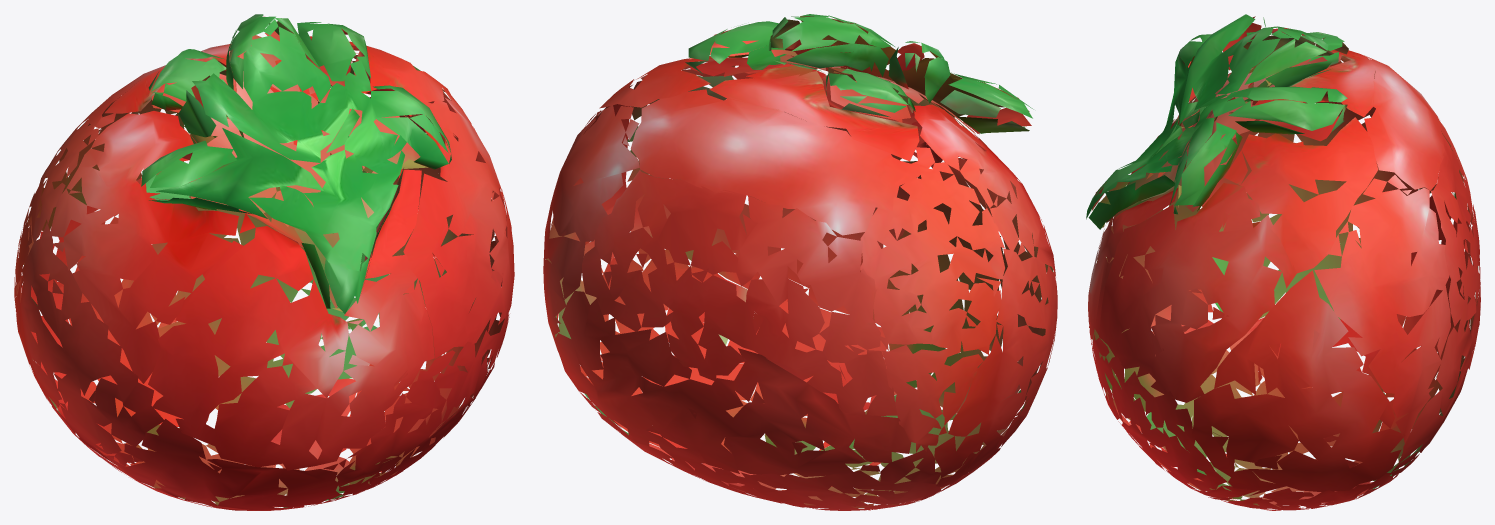
File: tomato.glb
3 renders of one model, left to right at view 1: azimuth 30°, elevation 25°; view 2: azimuth 150°, elevation 25°; view 3: azimuth 270°, elevation 25°, orthographic. The views are drawn at different scales.
Size of the model in its own units: 0.08 by 0.0792 by 0.0635.
Materials: 1 (1 with a texture image).
